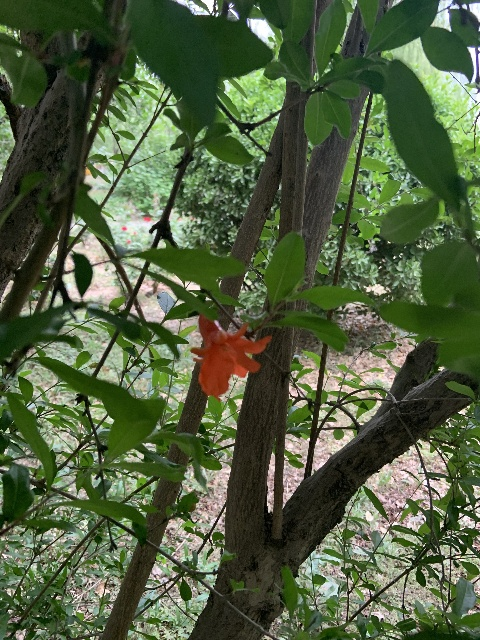flower: (190, 313, 272, 399)
